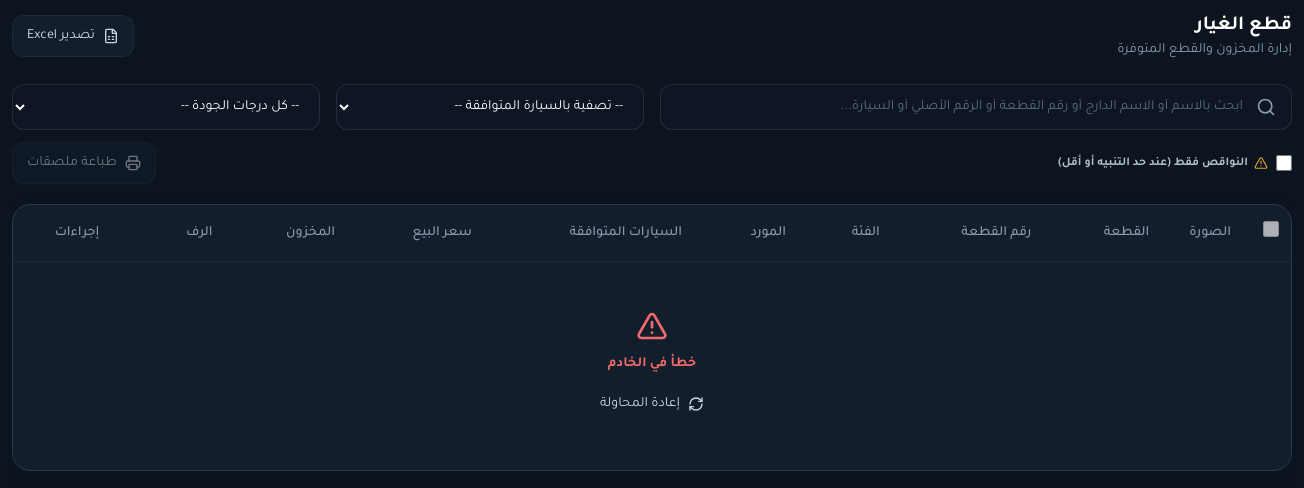
SpareParts page › فشل التحميل يعرض خطأ وإعادة محاولة بدل جدول فارغ
Expected: the text "خطأ في الخادم" is shown, 608,354 -> 696,374
Click the button "إعادة المحاولة".
click(652, 404)  # box 584,386 -> 720,422
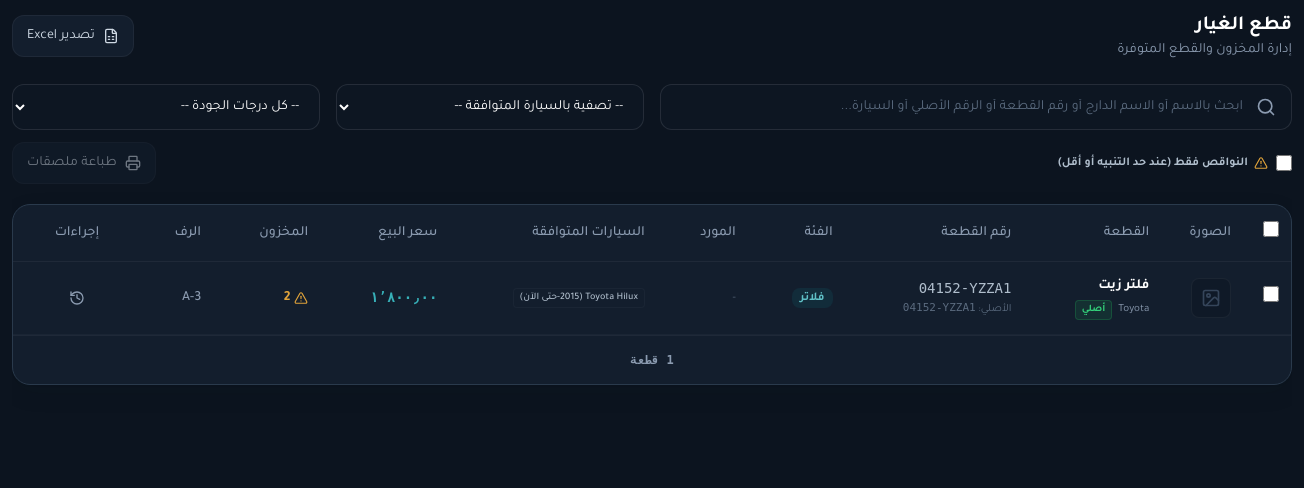
Expected: the text "فلتر زيت" is shown, 1098,276 -> 1149,296
